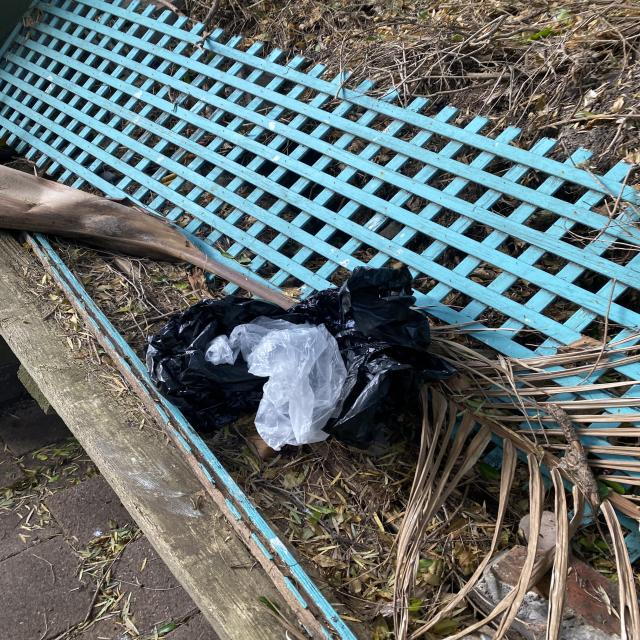bag: (148, 265, 432, 454), (208, 317, 348, 447)
